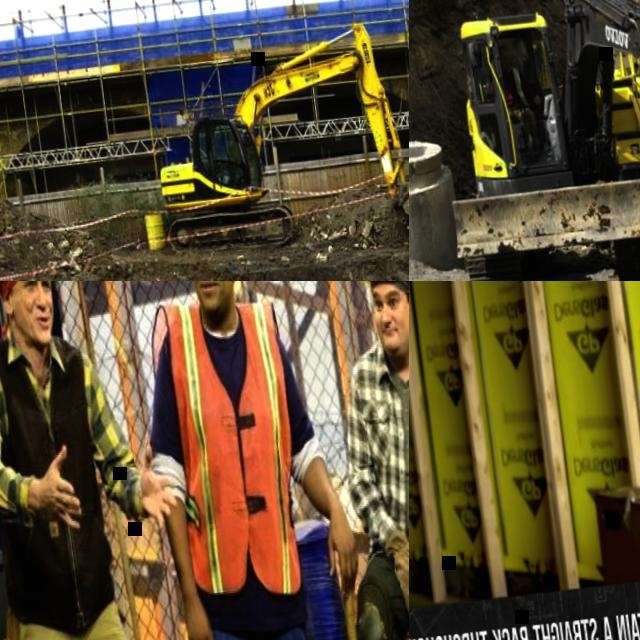NO-Hardhat: (497, 44, 509, 55)
NO-Mask: (371, 315, 409, 358), (13, 306, 52, 346), (193, 281, 234, 315), (500, 60, 510, 72)
NO-Safety Vest: (0, 324, 122, 632), (360, 337, 409, 531)
Person: (111, 281, 387, 640), (0, 281, 218, 640), (296, 281, 409, 640), (481, 41, 547, 158)
Safety Vest: (145, 286, 312, 591), (512, 65, 528, 108)
machinery: (140, 8, 409, 269), (423, 0, 640, 281)
